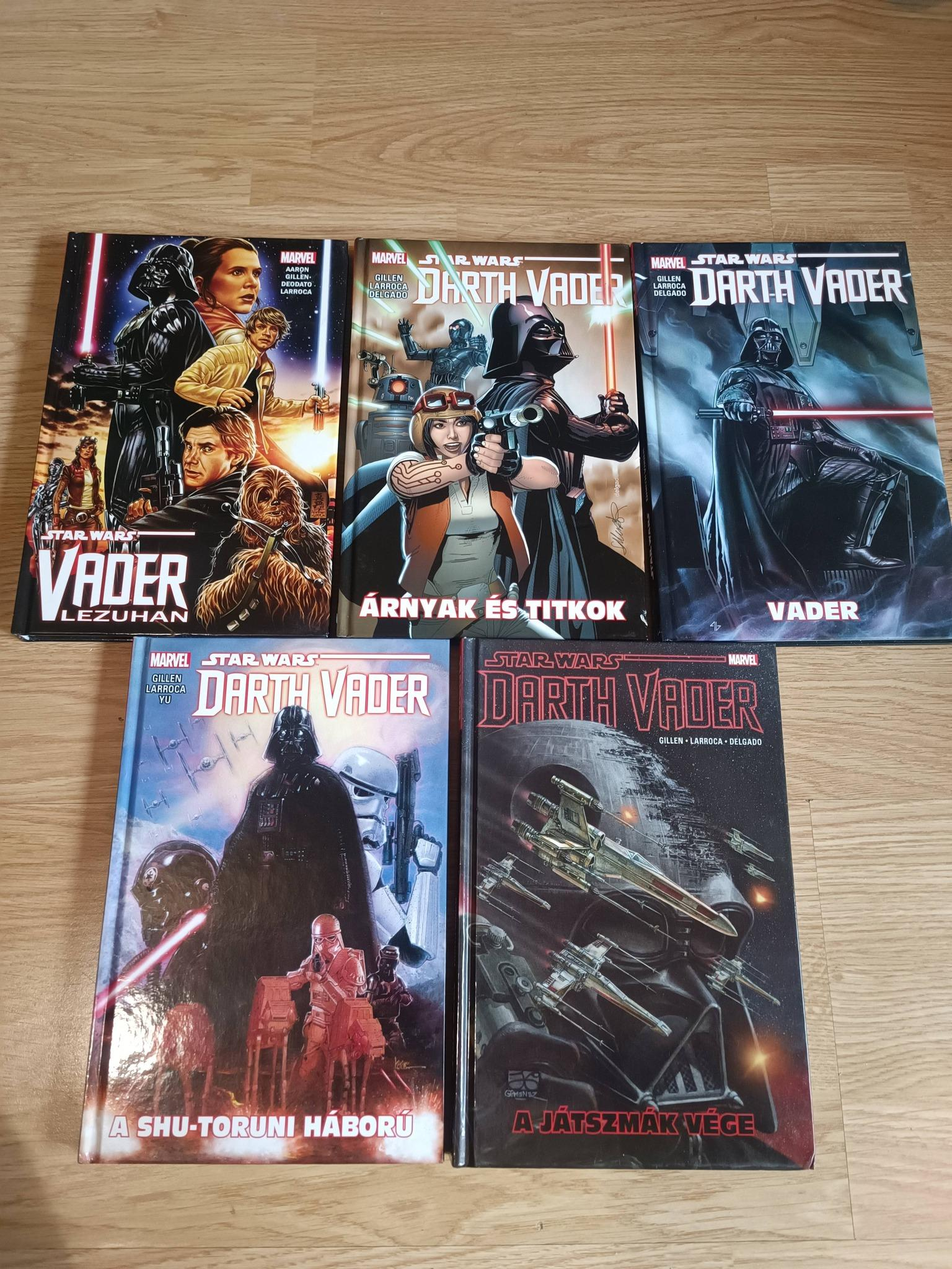comic: (80, 636, 450, 1166), (455, 640, 821, 1171), (13, 230, 349, 647), (634, 228, 952, 654), (338, 239, 651, 641)
